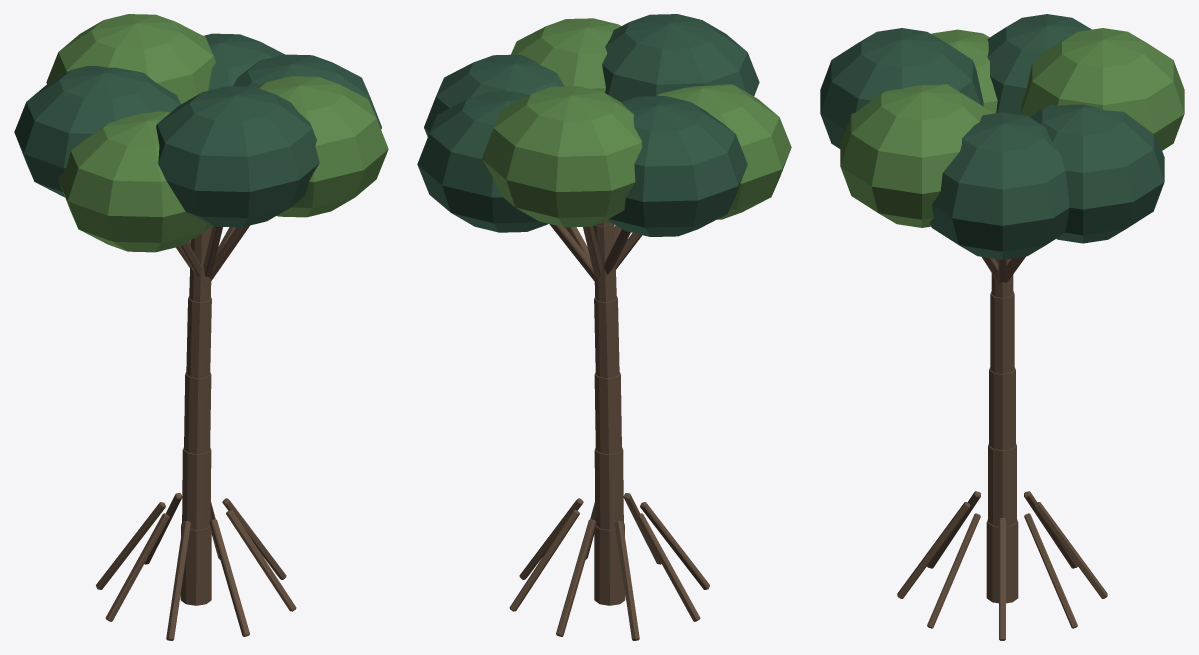
Rendered from nature-mangrove.lod0.glb.
3 views of the same model, side by side, from view 1: azimuth 30°, elevation 25°; view 2: azimuth 150°, elevation 25°; view 3: azimuth 270°, elevation 25° (orthographic).
Parts seen in each view (by area): view 1: nature-mangrove__body; view 2: nature-mangrove__body; view 3: nature-mangrove__body.
Part boxes in pixels (x1,y1,x2,y2): nature-mangrove__body: [14, 14, 388, 640]; nature-mangrove__body: [417, 14, 791, 640]; nature-mangrove__body: [820, 14, 1184, 640].
Size of the model in its own units: 4.48 by 7.12 by 4.24.
